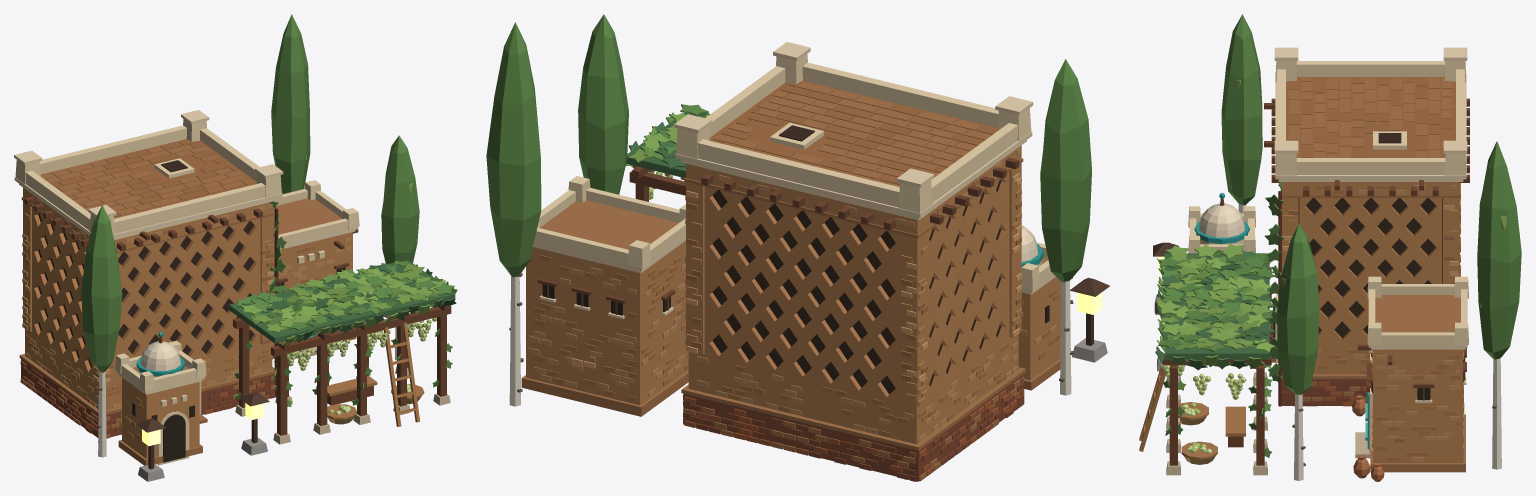
The model's file is grape_oasis.glb.
3 renders of one model, left to right at view 1: azimuth 30°, elevation 25°; view 2: azimuth 150°, elevation 25°; view 3: azimuth 270°, elevation 25°, orthographic. The views are drawn at different scales.
Parts seen in each view (by area): view 1: grape_oasis_GO_Earth, grape_oasis_GO_LeafFresh, grape_oasis_GO_EarthDark, grape_oasis_GO_Cream, grape_oasis_GO_Wood, grape_oasis_GO_RoofMud, grape_oasis_GO_LeafFreshLight, grape_oasis_GO_HoleShade, grape_oasis_GO_LeafFreshDark, grape_oasis_GO_BrickDark, grape_oasis_GO_Trim, grape_oasis_GO_WoodLight (+13 smaller); view 2: grape_oasis_GO_Earth, grape_oasis_GO_EarthDark, grape_oasis_GO_LeafFresh, grape_oasis_GO_Cream, grape_oasis_GO_RoofMud, grape_oasis_GO_HoleShade, grape_oasis_GO_BrickDark, grape_oasis_GO_MudCourseB, grape_oasis_GO_MudCourseA, grape_oasis_GO_Trim, grape_oasis_GO_Wood, grape_oasis_GO_Poplar (+5 smaller); view 3: grape_oasis_GO_LeafFresh, grape_oasis_GO_Earth, grape_oasis_GO_Cream, grape_oasis_GO_EarthDark, grape_oasis_GO_RoofMud, grape_oasis_GO_LeafFreshLight, grape_oasis_GO_Wood, grape_oasis_GO_LeafFreshDark, grape_oasis_GO_HoleShade, grape_oasis_GO_Trim, grape_oasis_GO_WoodLight, grape_oasis_GO_Poplar (+10 smaller).
Boxes of the visible parts, x1,y1,x2,y2 form: grape_oasis_GO_Earth: (22,188,352,458); grape_oasis_GO_LeafFresh: (81,14,457,406); grape_oasis_GO_EarthDark: (19,145,356,465); grape_oasis_GO_Cream: (15,119,359,406); grape_oasis_GO_Wood: (24,197,451,435); grape_oasis_GO_RoofMud: (41,139,256,217); grape_oasis_GO_LeafFreshLight: (117,154,445,345); grape_oasis_GO_HoleShade: (38,160,254,367); grape_oasis_GO_LeafFreshDark: (229,260,456,343); grape_oasis_GO_BrickDark: (21,359,275,437); grape_oasis_GO_Trim: (14,110,358,393); grape_oasis_GO_WoodLight: (278,316,424,426); grape_oasis_GO_Earth: (526,145,1061,444); grape_oasis_GO_EarthDark: (521,82,1060,481); grape_oasis_GO_LeafFresh: (486,14,1091,282); grape_oasis_GO_Cream: (532,54,1055,319); grape_oasis_GO_RoofMud: (709,80,997,185); grape_oasis_GO_HoleShade: (712,125,1001,394); grape_oasis_GO_BrickDark: (683,374,1024,481); grape_oasis_GO_MudCourseB: (528,148,1056,442); grape_oasis_GO_MudCourseA: (534,177,1060,437); grape_oasis_GO_Trim: (533,42,1054,292); grape_oasis_GO_Wood: (537,157,1019,314); grape_oasis_GO_Poplar: (509,276,1071,406); grape_oasis_GO_LeafFresh: (1157,14,1521,457); grape_oasis_GO_Earth: (1282,182,1464,462); grape_oasis_GO_Cream: (1188,61,1468,402); grape_oasis_GO_EarthDark: (1271,78,1465,472); grape_oasis_GO_RoofMud: (1286,77,1455,157); grape_oasis_GO_LeafFreshLight: (1156,79,1508,367); grape_oasis_GO_Wood: (1162,98,1469,465); grape_oasis_GO_LeafFreshDark: (1155,250,1276,370); grape_oasis_GO_HoleShade: (1298,133,1442,337); grape_oasis_GO_Trim: (1274,47,1467,347); grape_oasis_GO_WoodLight: (1139,323,1273,459); grape_oasis_GO_Poplar: (1238,203,1501,480).
Size of the model in its own units: 4.15 by 3.23 by 3.4.
